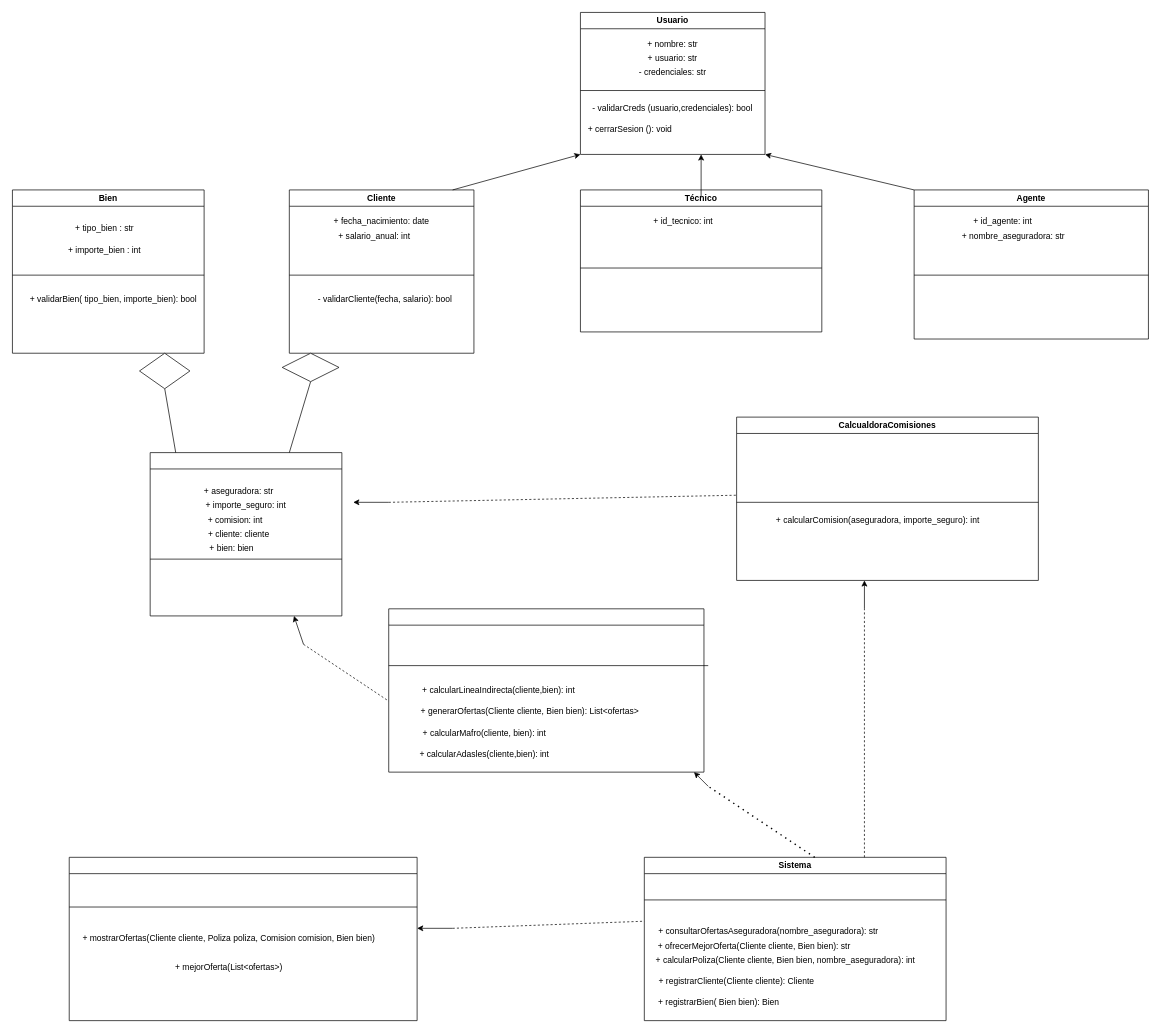
Image size: 1162x1033. Some labels were removed from this diagram. The shapes that lost their labels are listed below. From the top down, each one's box as (x1, y1, x2, y2) in pixels, then its label:
(149, 452, 342, 616): Oferta
(388, 608, 704, 772): CalculadoraOfertas
(69, 857, 417, 1021): GestorOfertas
